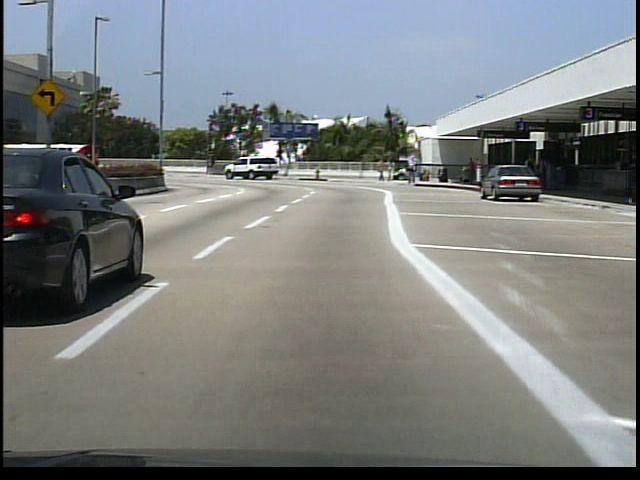person: (522, 151, 542, 196), (408, 153, 418, 187), (466, 157, 477, 184), (378, 157, 387, 183), (386, 157, 394, 182)
